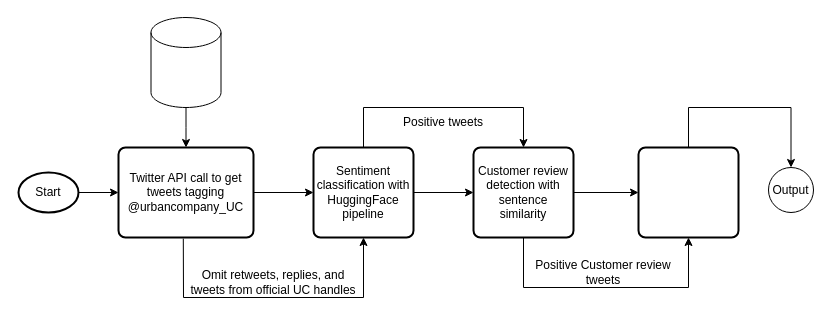
Image size: 831x323. Some labels were removed from this diagram. The shapes that lost their labels are listed below. From the top down, each one's box as (x1, y1, x2, y2) in pixels, then its label:
(150, 16, 221, 108): Tweets from past week
(637, 146, 739, 238): Sarcasm filter with sentence similarity
